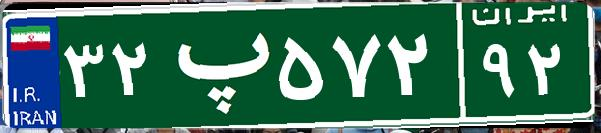2: (385, 28, 445, 110), (110, 28, 158, 105), (525, 38, 570, 115)
3: (57, 26, 110, 107)
5: (273, 28, 330, 110)
7: (330, 28, 385, 110)
9: (475, 38, 525, 113)
پ: (158, 15, 273, 115)
